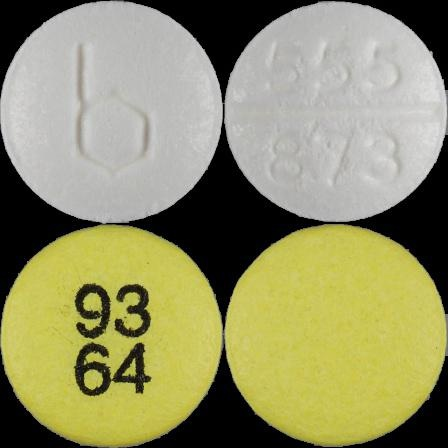68788-7401: (0, 0, 224, 224)
